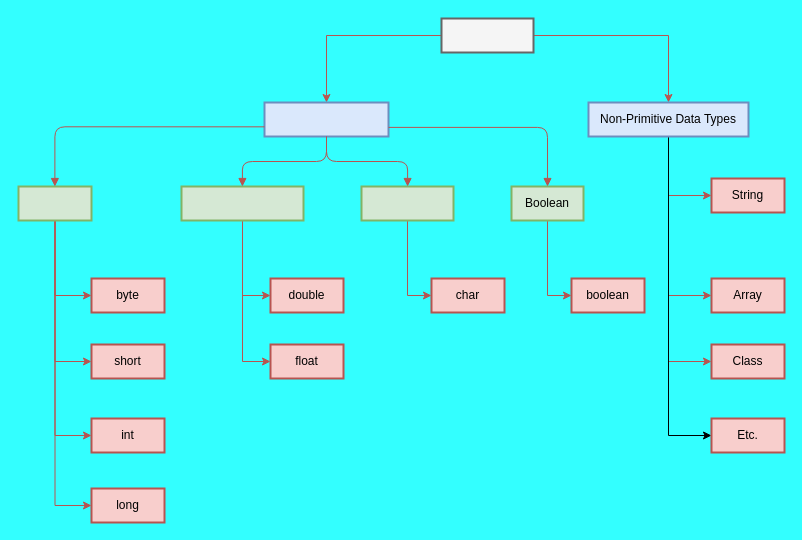
The diagram is 802 pixels wide and 540 high, and some of its shapes have lost their labels. Each missing label, with the centre of its shape:
"Characters" goes at point 407,203.
"Data Types" goes at point 487,35.
"Floating-points" goes at point 242,203.
"Integers" goes at point 54,203.
"Primitive Data Types" goes at point 326,119.
